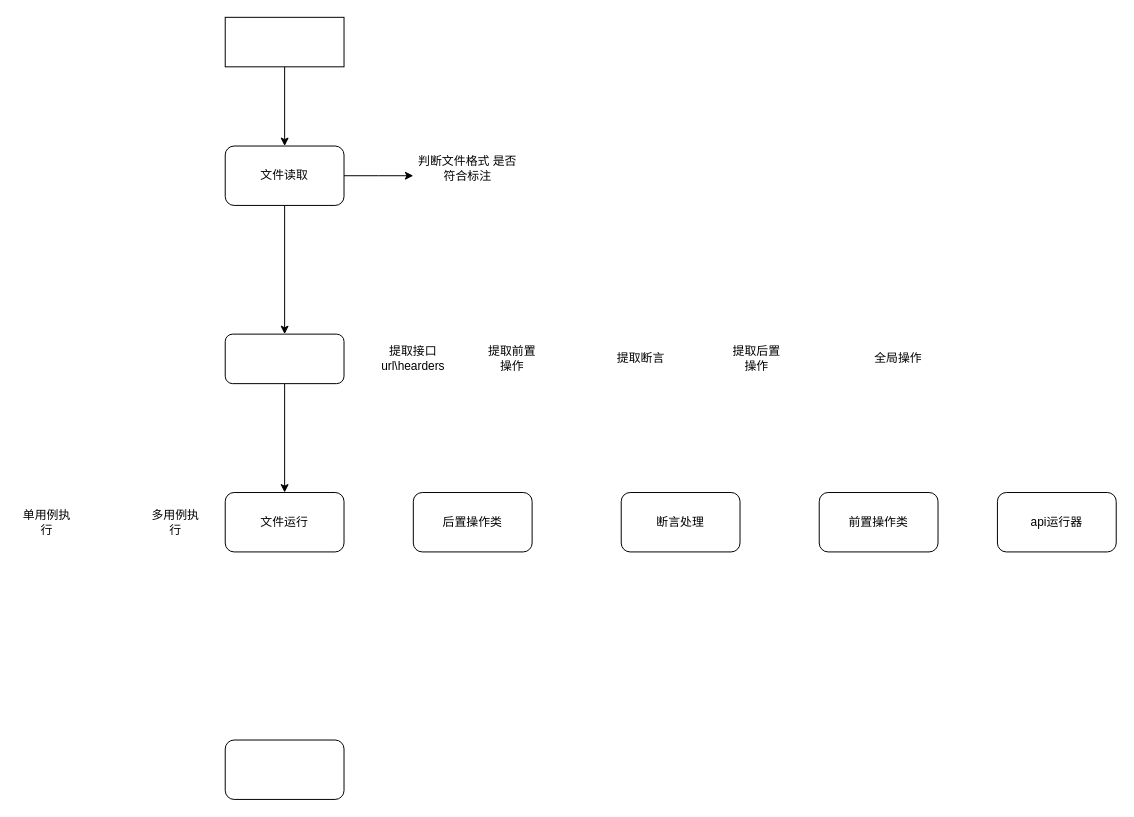
Image size: 1134x817. Some labels were removed from this diagram. Each missing label, with the centre of its shape:
"yaml文件" belongs at (284,41).
"文件处理" belongs at (284,358).
